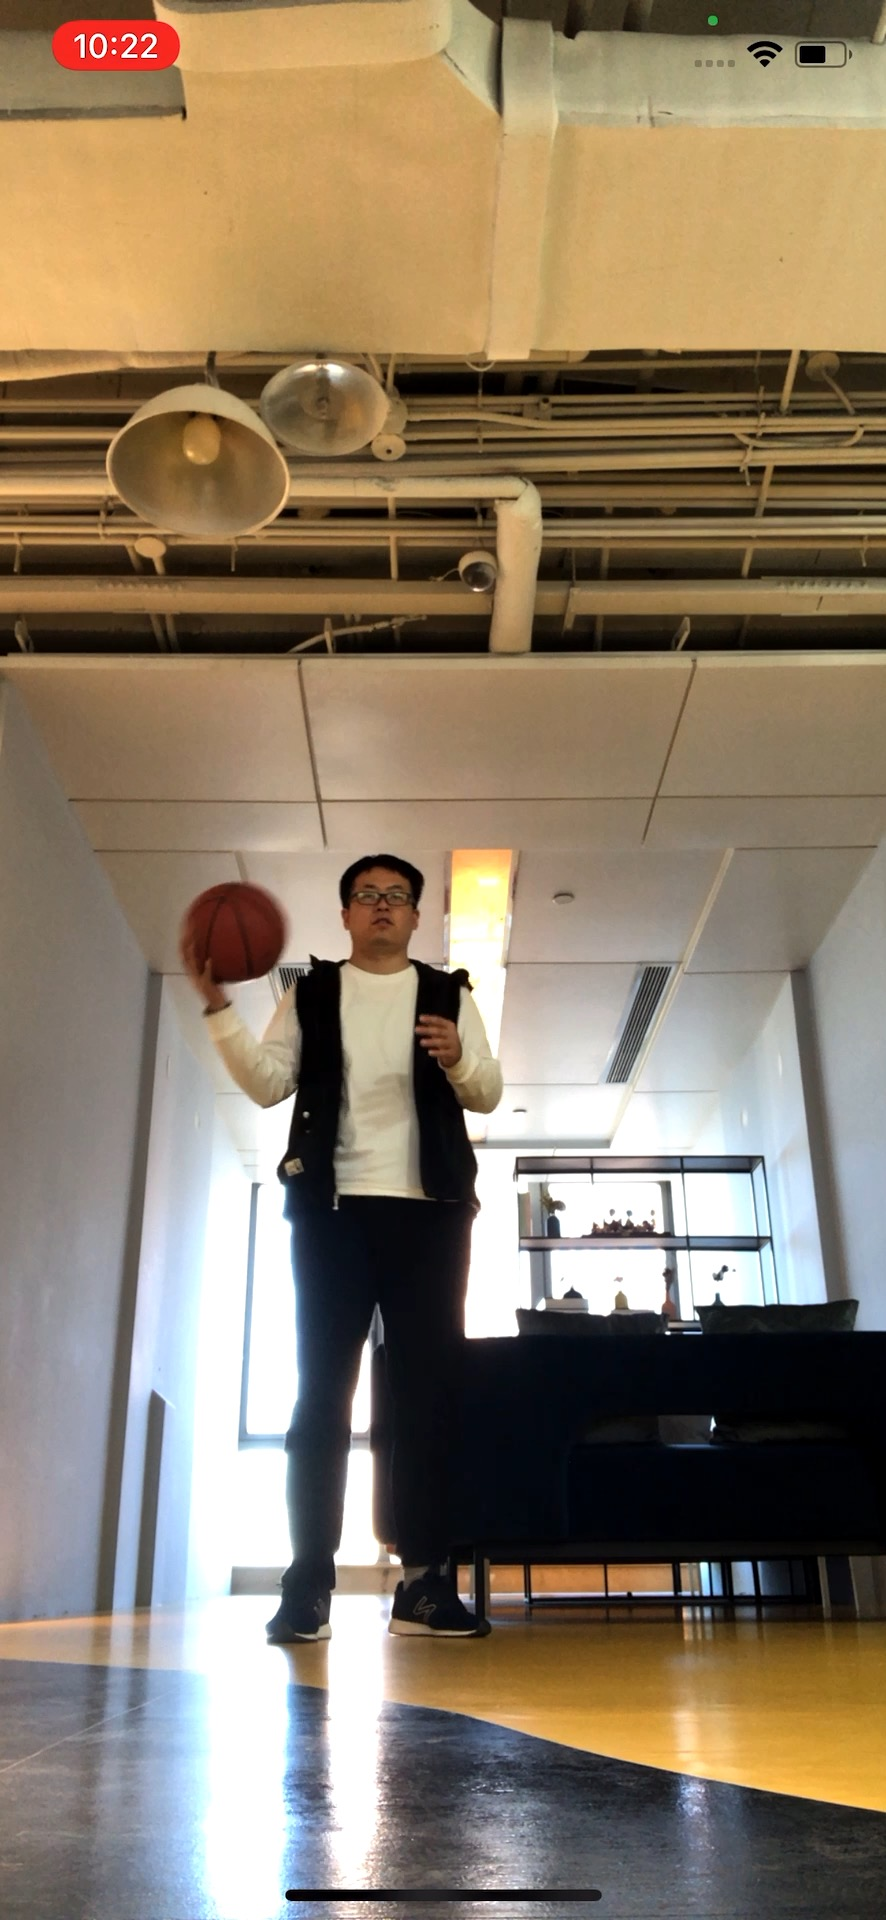ball: (186, 880, 286, 984)
